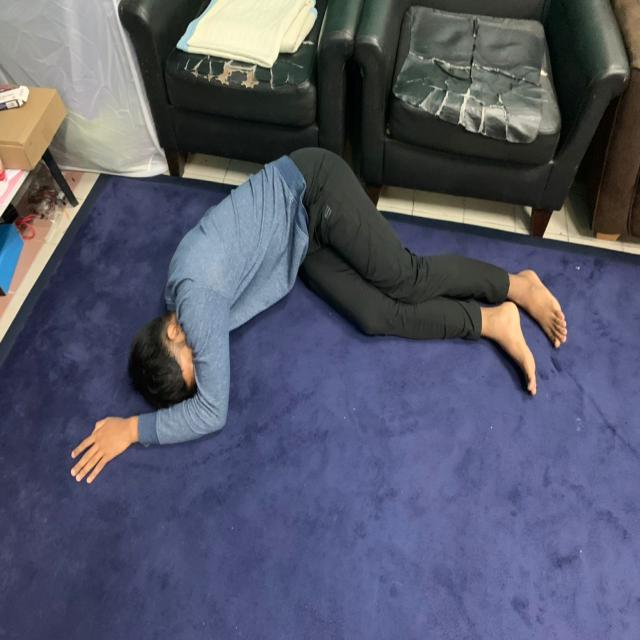Fall-Detected: (67, 145, 566, 483)
